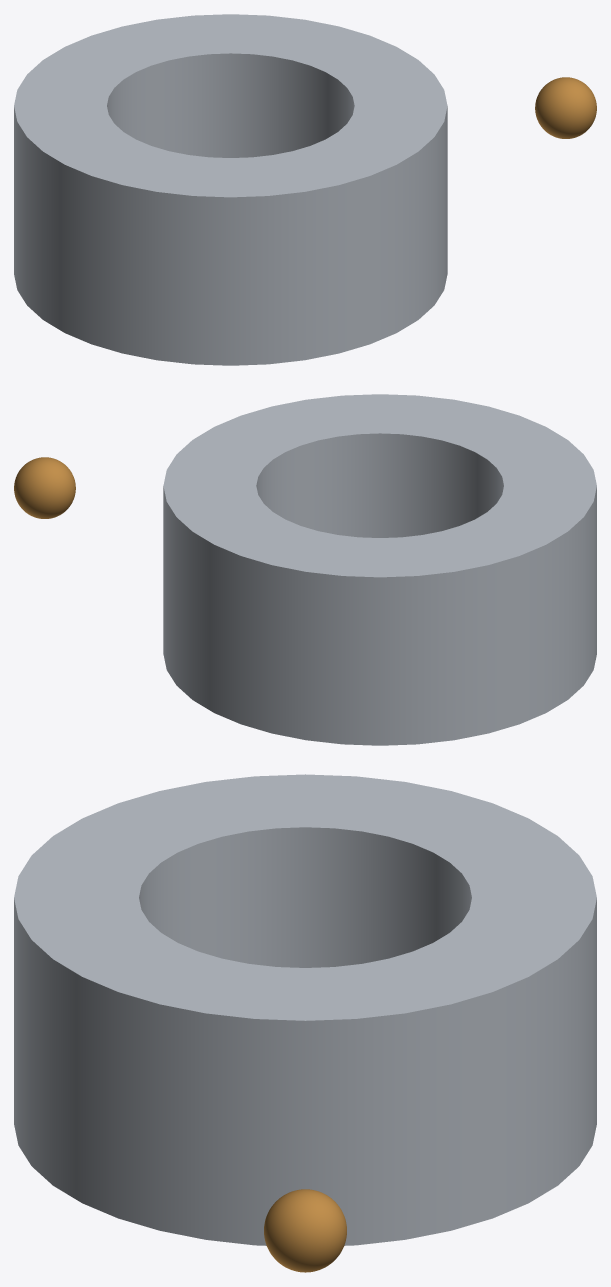
Rendered from small-blender.glb.
3 views of the same model, one above another, from view 1: azimuth 30°, elevation 25°; view 2: azimuth 150°, elevation 25°; view 3: azimuth 270°, elevation 25° (orthographic). The views are drawn at different scales.
Visible parts, largest first — view 1: bushing, preserved; view 2: bushing, preserved; view 3: bushing, preserved.
Boxes of the visible parts, <box> form: bushing: <box>14,14,447,365</box>; preserved: <box>535,77,596,138</box>; bushing: <box>163,394,596,745</box>; preserved: <box>14,457,75,518</box>; bushing: <box>14,774,596,1245</box>; preserved: <box>264,1189,346,1272</box>.
Bounding box in the file's own units: 0.0205 × 0.006 × 0.014.
